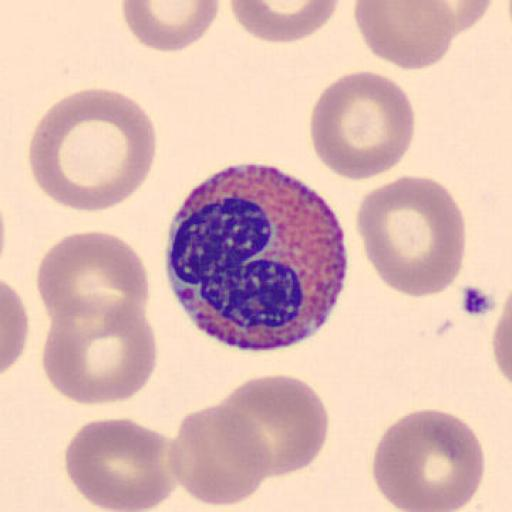RBC: (27, 88, 158, 214), (356, 173, 466, 298), (40, 292, 158, 406), (36, 229, 152, 342), (308, 68, 416, 182), (370, 406, 486, 512), (216, 373, 330, 479), (64, 416, 182, 512), (167, 401, 272, 507), (352, 0, 456, 71), (121, 0, 222, 52), (228, 0, 342, 44), (0, 279, 30, 377), (490, 289, 512, 392), (434, 0, 494, 35), (492, 310, 512, 387)
WBC: (163, 157, 349, 355)
